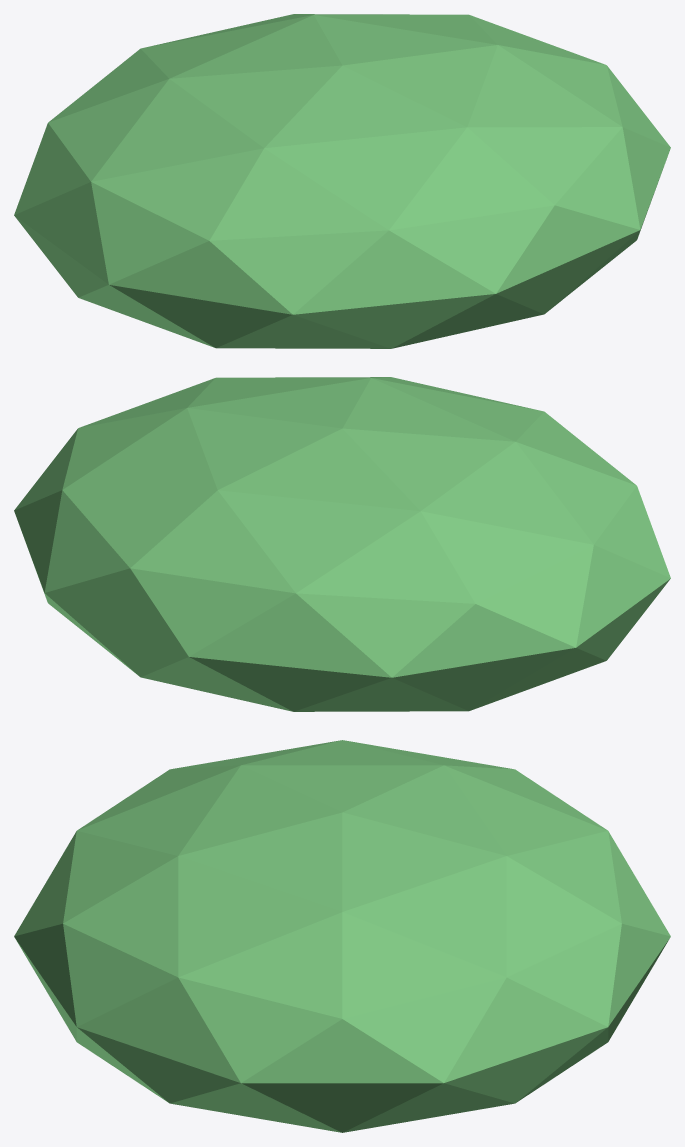
File: Horse_Hill.fbx
3 views of the same model, one above another, from view 1: azimuth 30°, elevation 25°; view 2: azimuth 150°, elevation 25°; view 3: azimuth 270°, elevation 25° (orthographic). The views are drawn at different scales.
Parts seen in each view (by area): view 1: Hill; view 2: Hill; view 3: Hill.
Part boxes in pixels (left/top/right/bottom): Hill: left=14, top=14, right=670, bottom=348; Hill: left=14, top=377, right=670, bottom=711; Hill: left=14, top=740, right=670, bottom=1132.
Size of the model in its own units: 30.43 by 12 by 28.8.
